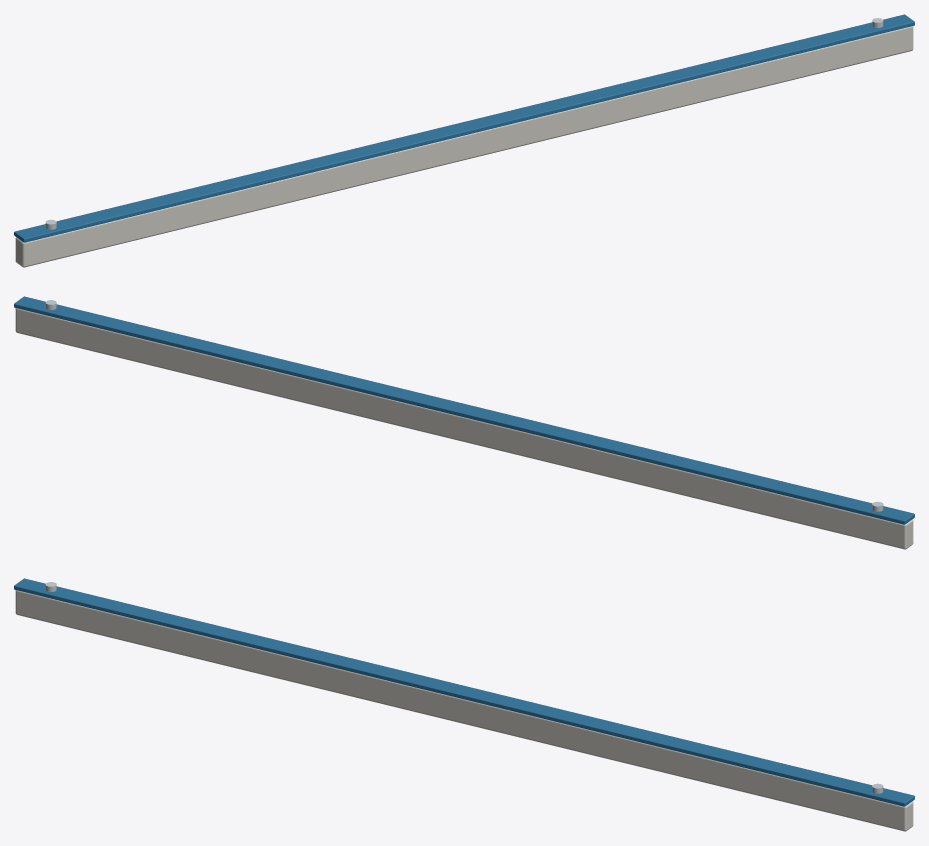
Rendered from curling-club-and-ice-maintenance-divider-end-gate-3d87afac__31262.glb.
3 views of the same model, one above another, from view 1: azimuth 30°, elevation 25°; view 2: azimuth 150°, elevation 25°; view 3: azimuth 330°, elevation 25° (orthographic).
Visible parts, largest first — view 1: divider-end-gate; view 2: divider-end-gate; view 3: divider-end-gate.
Boxes of the visible parts, bbox=[...] form: divider-end-gate: bbox=[14, 14, 914, 267]; divider-end-gate: bbox=[14, 296, 914, 549]; divider-end-gate: bbox=[14, 578, 914, 831].
Size of the model in its own units: 4.96 by 0.1898 by 0.0999.
